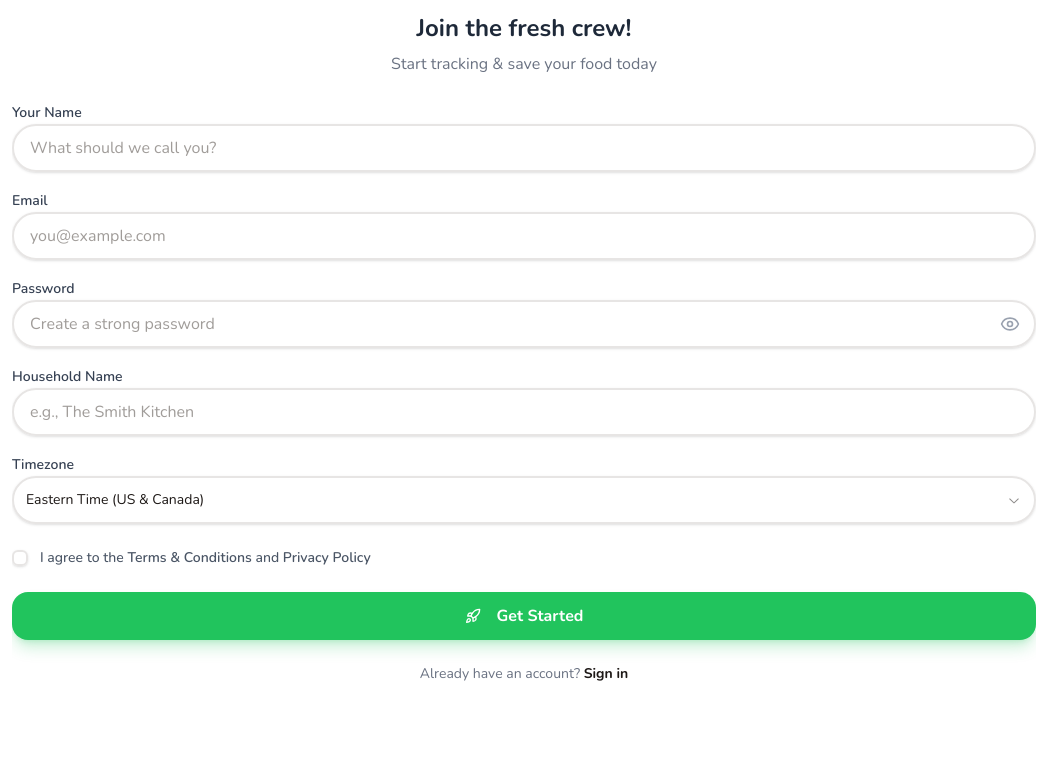
Test case: SignUp Component › should display validation errors for invalid form submission
Find and click the submit button without filling any fields
Click the button "Get Started" at (524, 616), box [12,592,1036,640]
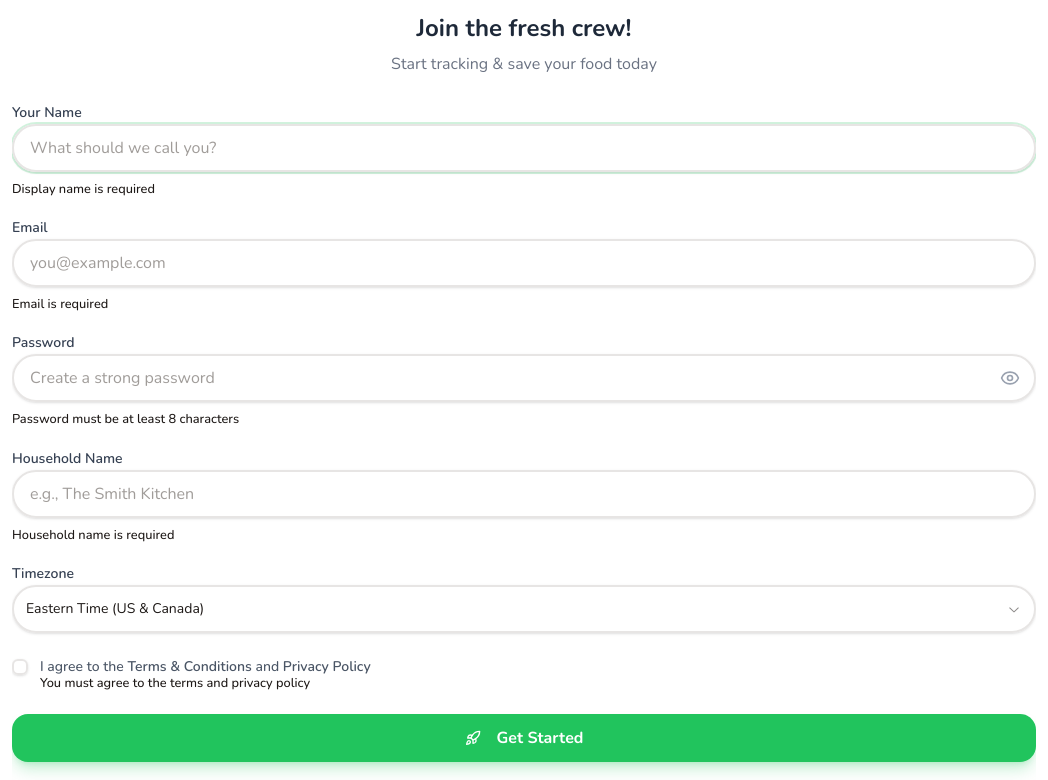
Expected: the text "Display name is required" is shown, [12,180,155,198]
Expected: the text "Email is required" is shown, [12,295,108,313]
Expected: the text "Password must be at least 8 characters" is shown, [12,410,239,428]
